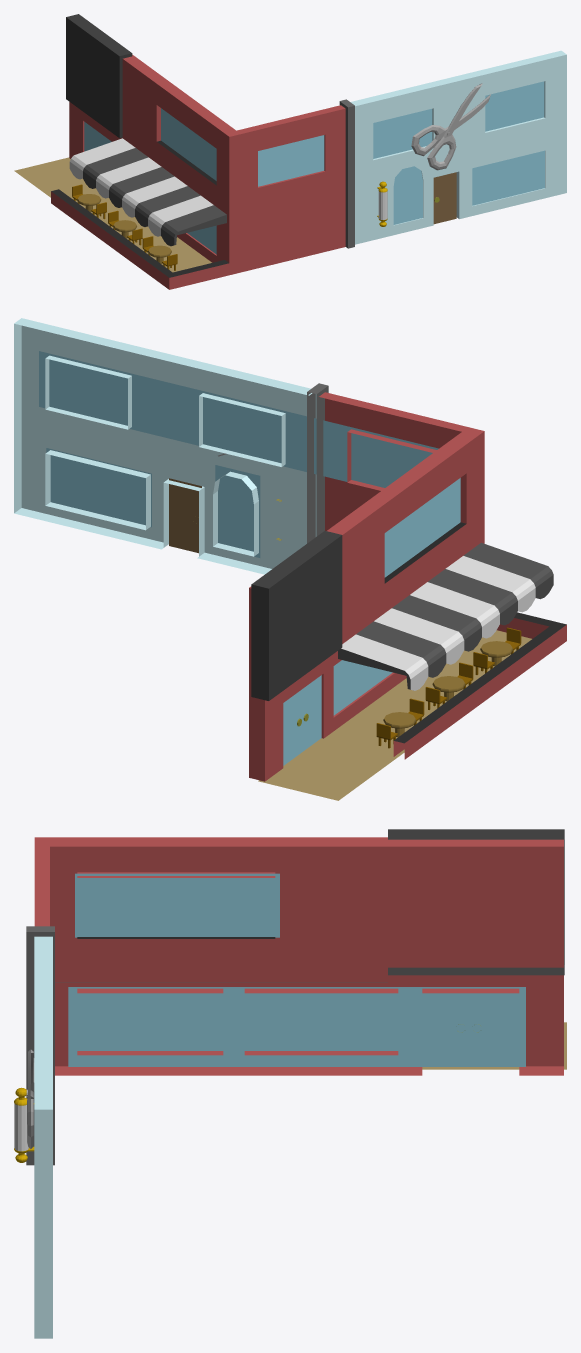
The model's file is cafe y peluqueria.fbx.
3 views of the same model, one above another, from view 1: azimuth 30°, elevation 25°; view 2: azimuth 150°, elevation 25°; view 3: azimuth 270°, elevation 25° (orthographic). The views are drawn at different scales.
Visible parts, largest first — view 1: polySurface2, pPlane11, pCube21, pCube28, pPlane7, pCylinder20, pPlane10, pCube29, pCylinder21; view 2: polySurface2, pPlane11, pCube21, pCube28, pPlane7, pPlane10, pCube29, pCylinder21; view 3: polySurface2, pPlane11, pCube28, pCylinder20.
Boxes of the visible parts, x1,y1,x2,y2 form: polySurface2: (51, 50, 566, 289); pPlane11: (84, 81, 544, 254); pCube21: (69, 138, 226, 246); pCube28: (66, 14, 354, 248); pPlane7: (14, 157, 211, 272); pCylinder20: (411, 83, 490, 170); pPlane10: (433, 172, 456, 224); pCube29: (72, 184, 177, 270); pCylinder21: (77, 194, 171, 263); polySurface2: (14, 318, 566, 781); pPlane11: (39, 351, 460, 765); pCube21: (338, 542, 553, 690); pCube28: (251, 383, 342, 700); pPlane7: (258, 630, 531, 800); pPlane10: (169, 478, 201, 553); pCube29: (376, 627, 521, 748); pCylinder21: (383, 641, 512, 737); polySurface2: (34, 837, 563, 1338); pPlane11: (68, 873, 525, 1066); pCube28: (26, 829, 564, 1165); pCylinder20: (26, 1049, 34, 1148).
Bounding box in the file's own units: 39.9 × 13.61 × 29.07.
